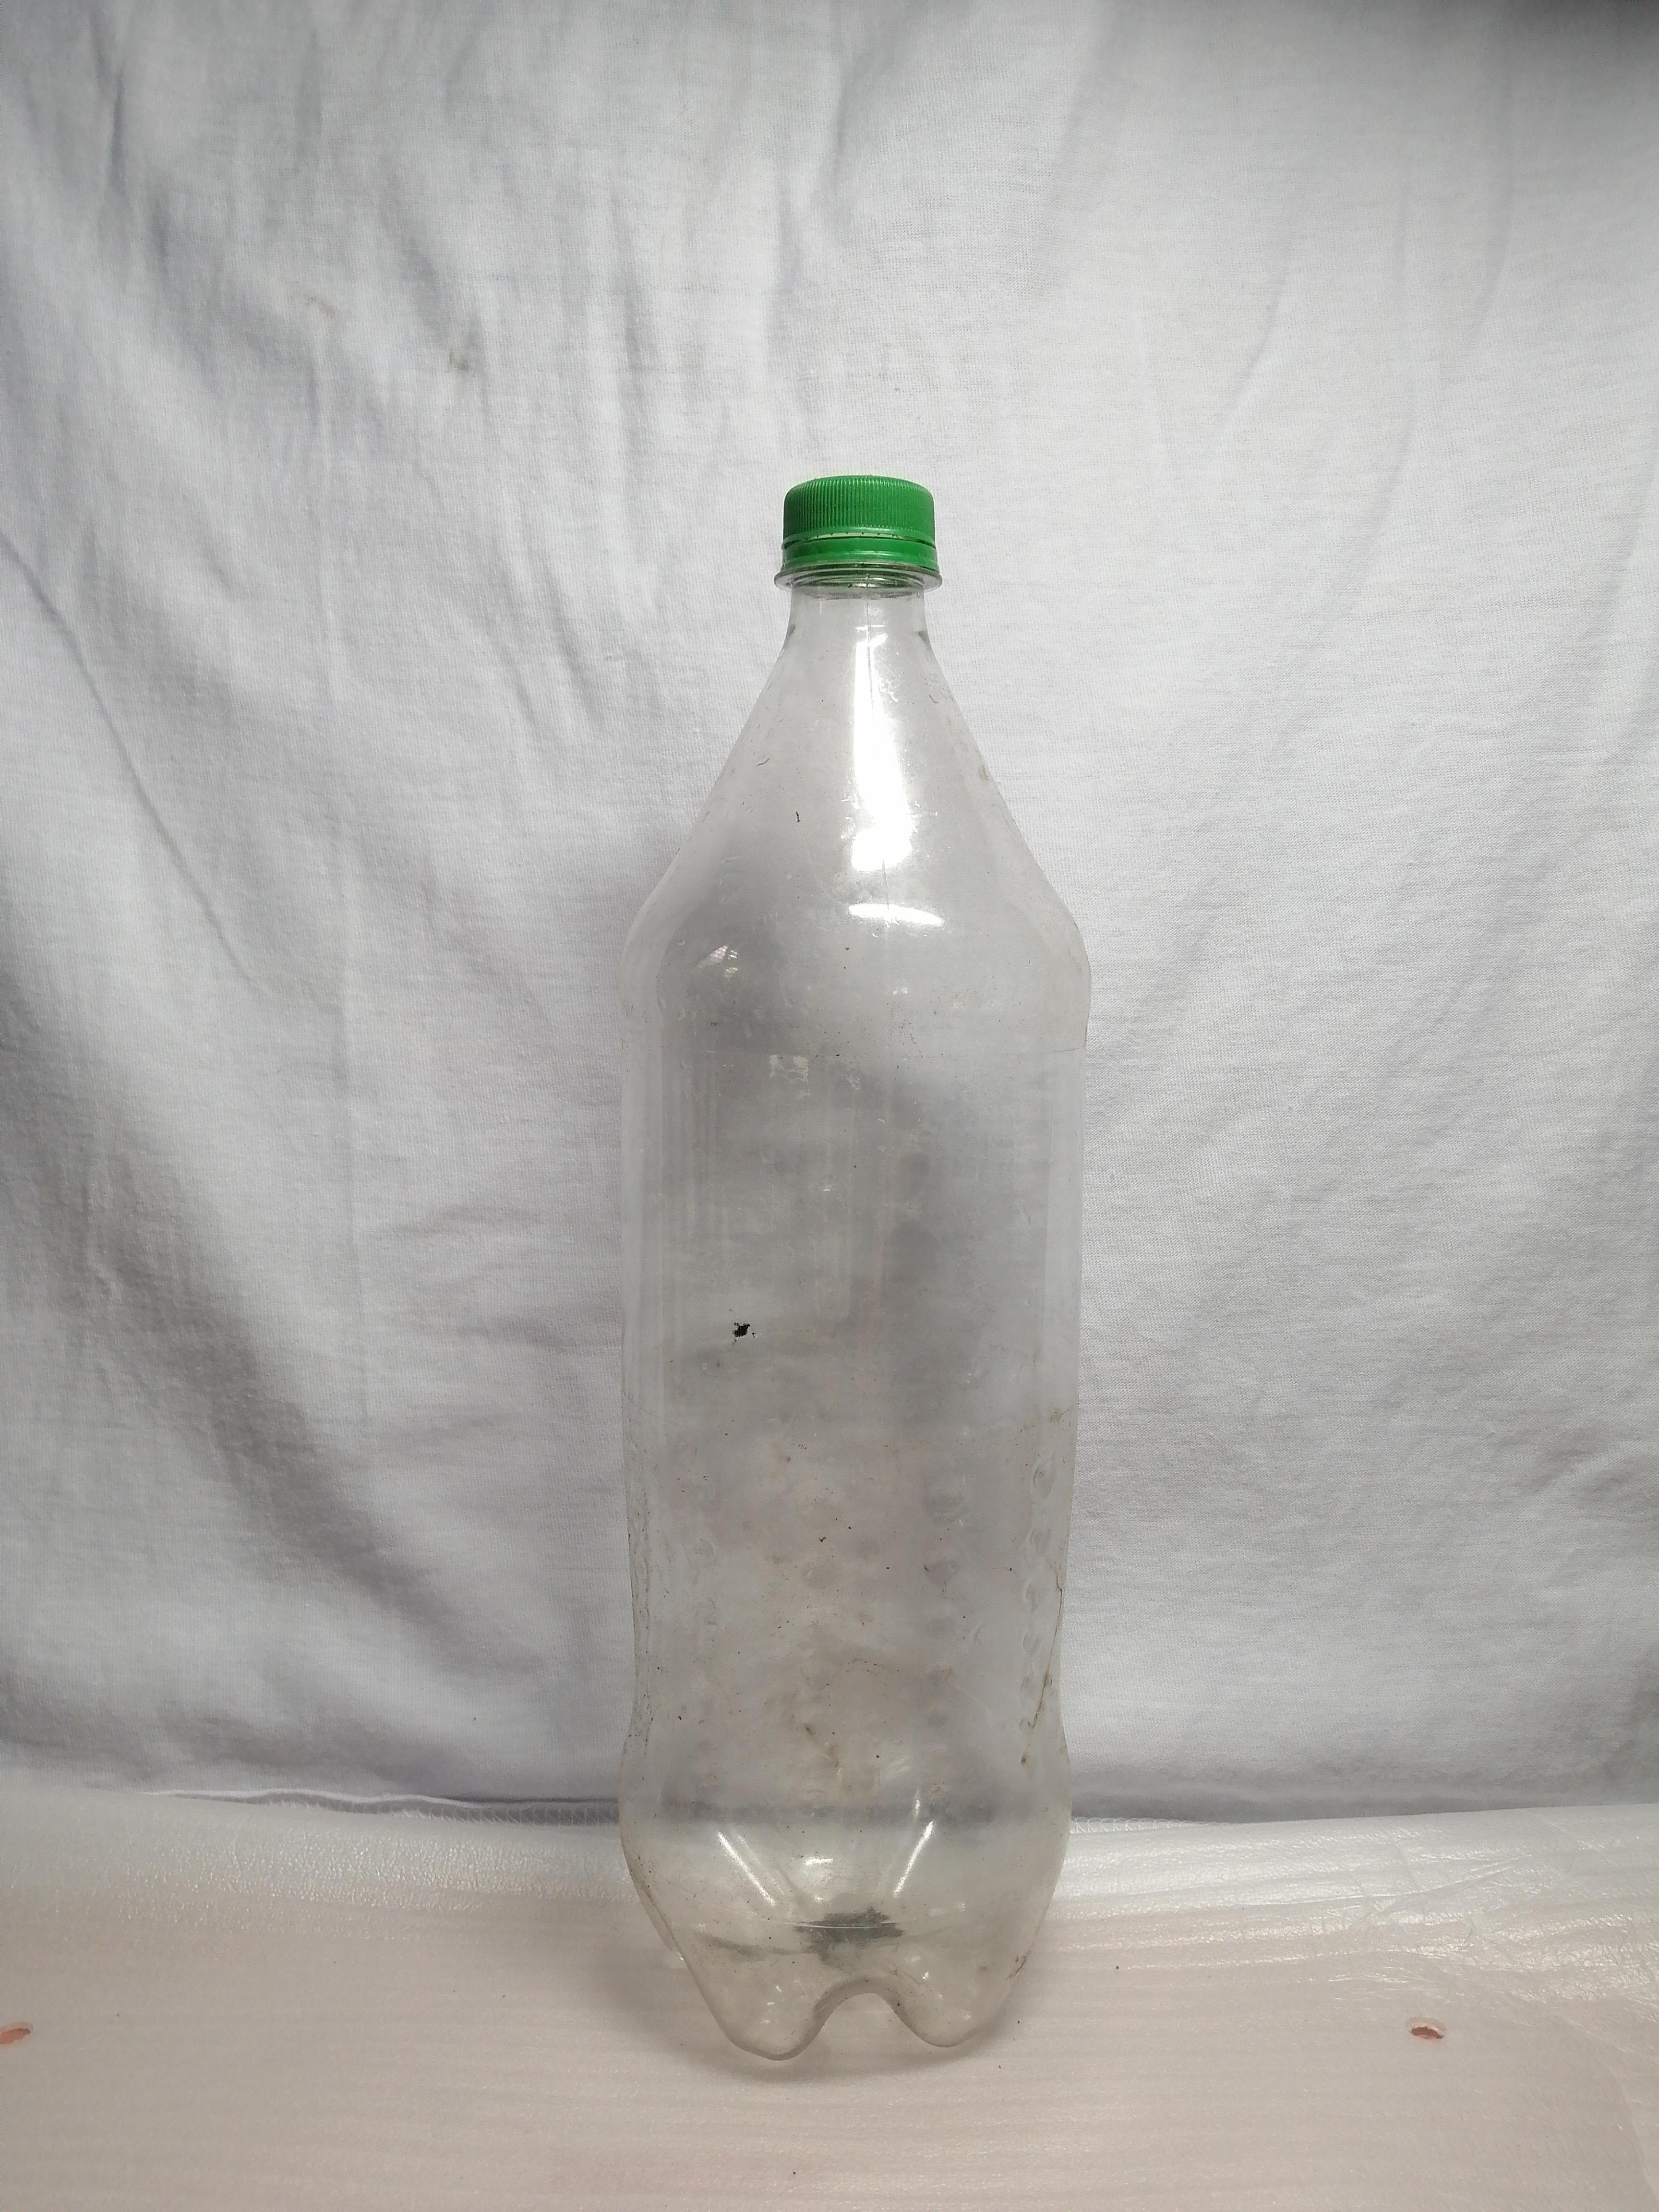plastic-bottle: (547, 432, 1123, 2122)
